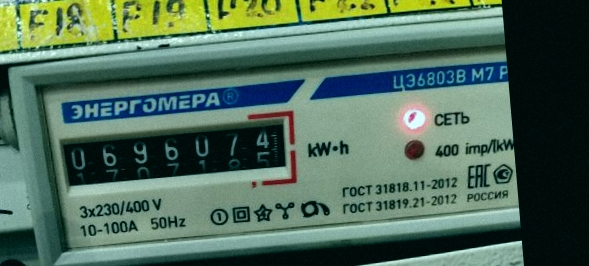0: (66, 144, 87, 170), (192, 130, 210, 158)
4: (253, 124, 271, 149)
5: (255, 148, 271, 167)
6: (99, 139, 120, 167), (160, 135, 179, 160)
7: (221, 129, 241, 156)
9: (129, 137, 150, 164)
screen: (46, 104, 304, 206)
